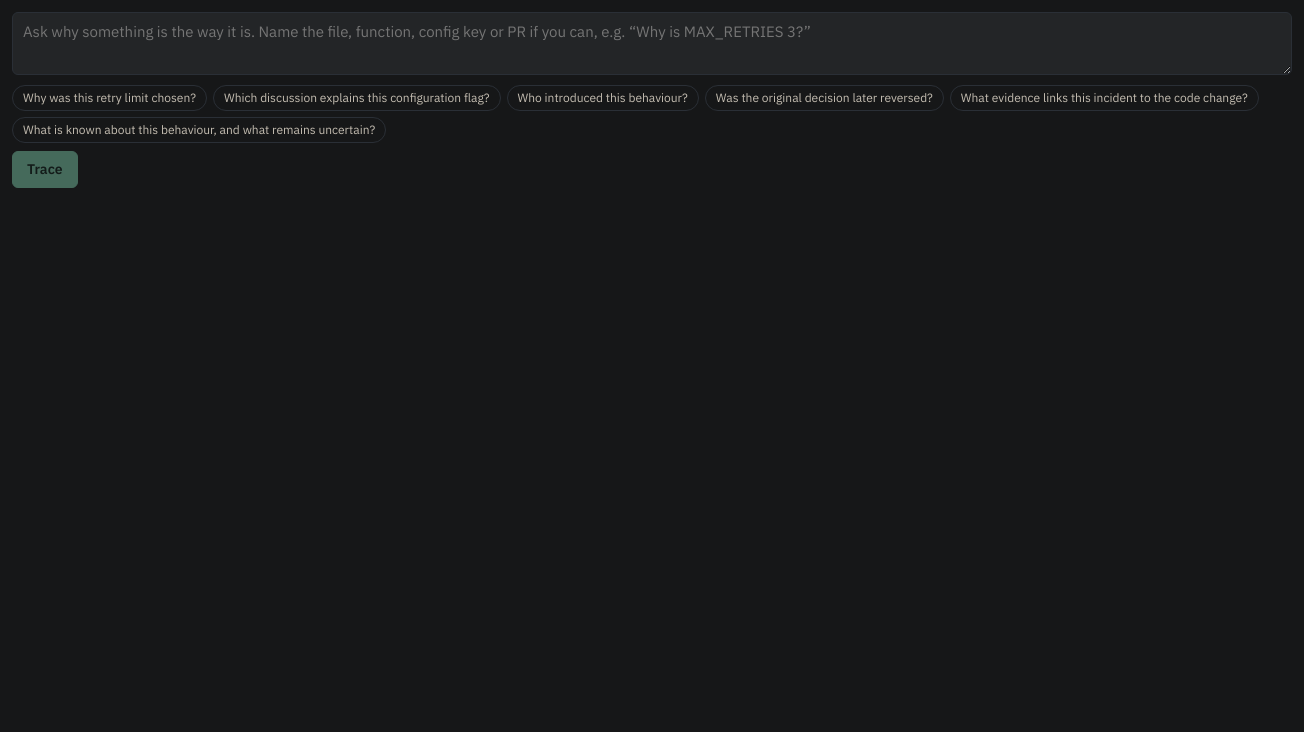
E. UI › insufficient-evidence answer is explicit
Replace the text in the text box named "Question" with "Why was legacy not migrated?" at point(652, 44), box [12,12,1292,75]
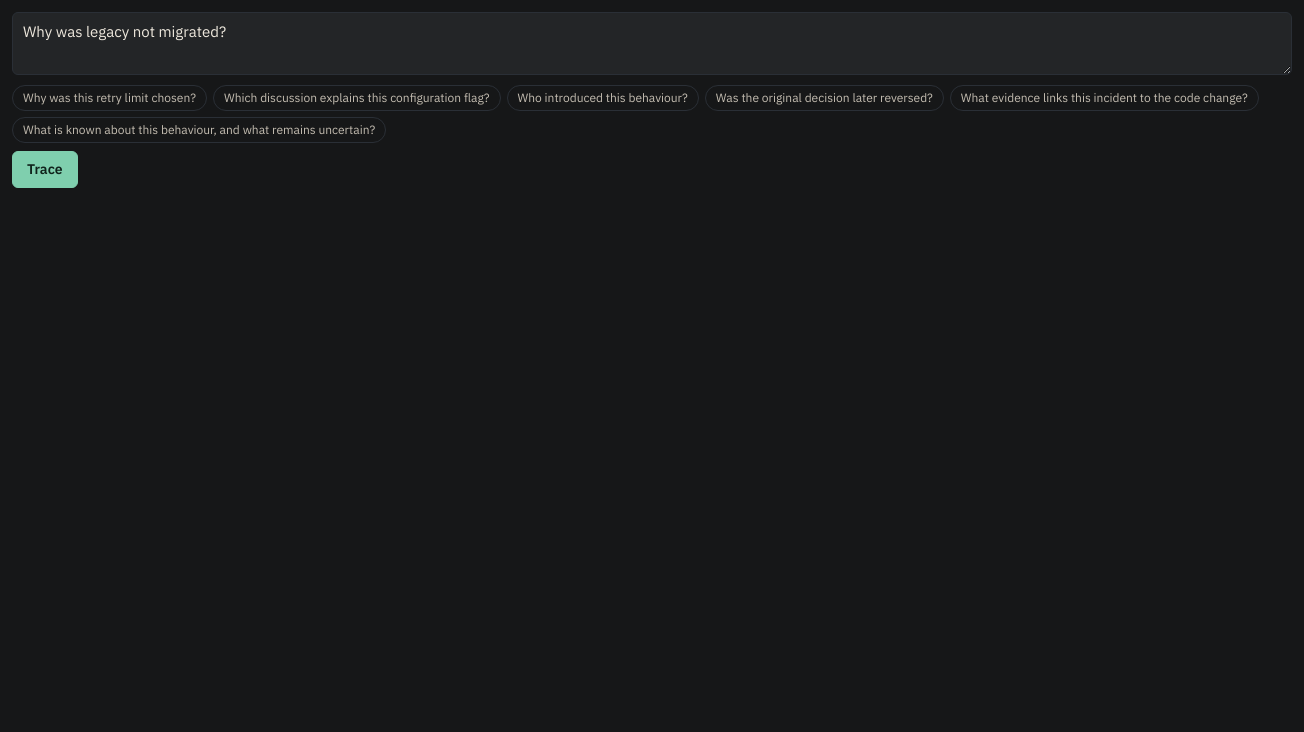
Click the button "Trace" at point(45, 170), box [12,151,78,188]
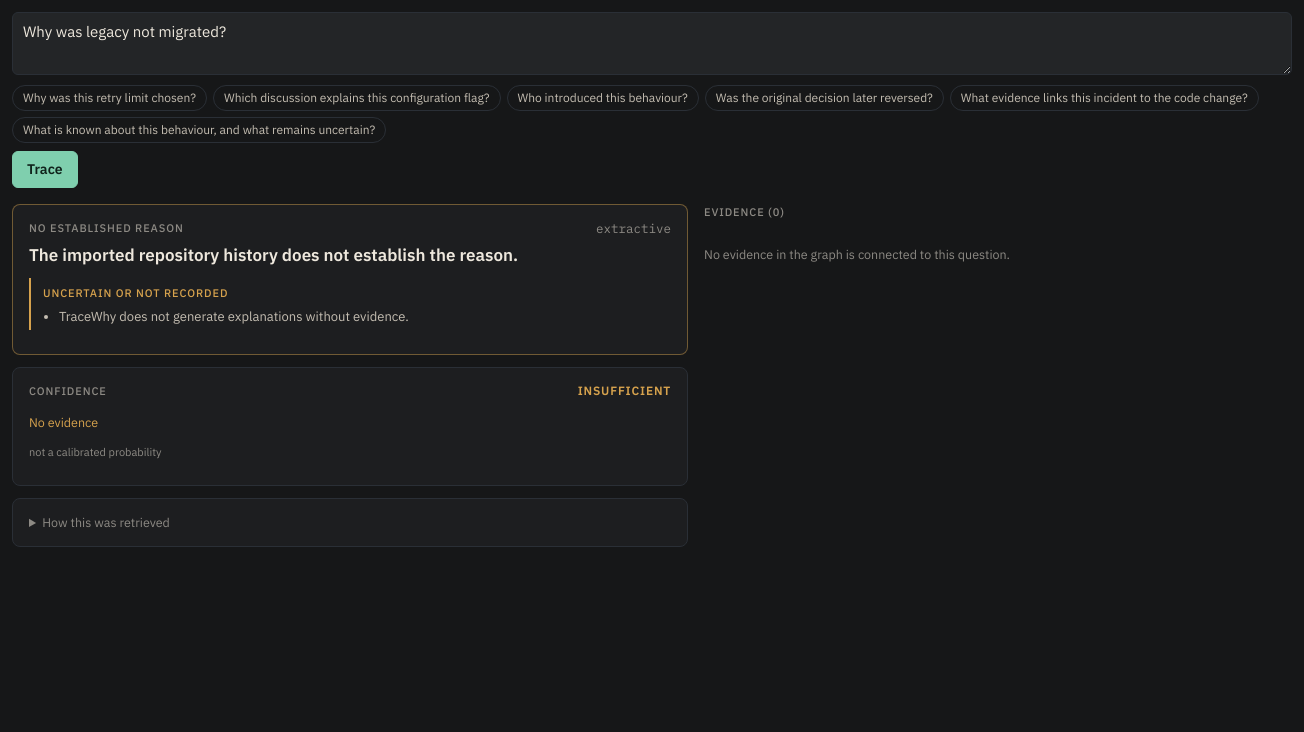
Check: the text "No established reason" is shown, box [29,220,184,237]
Check: the heading "does not establish the reason" is shown, box [29,244,518,266]
Check: the text "insufficient" is shown, box [578,382,671,400]
